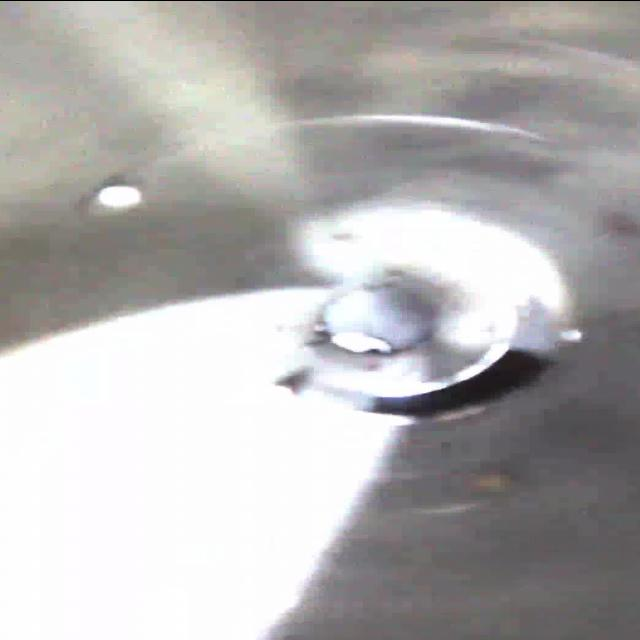hole: (256, 338, 564, 423)
